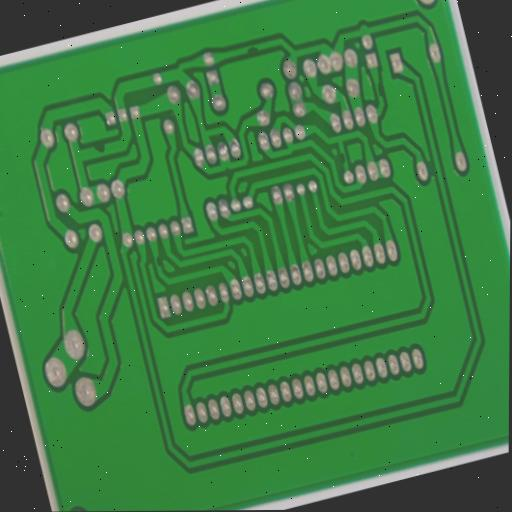mouse_bite: (240, 37, 266, 63), (89, 138, 111, 159), (149, 250, 167, 272), (372, 78, 386, 101), (337, 149, 350, 166)
